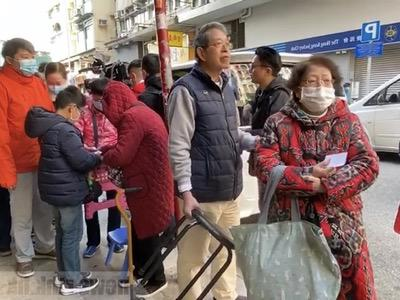with_mask: (300, 71, 335, 113), (14, 52, 37, 75), (43, 78, 64, 95)
without_mask: (206, 35, 232, 68), (247, 61, 266, 88)
